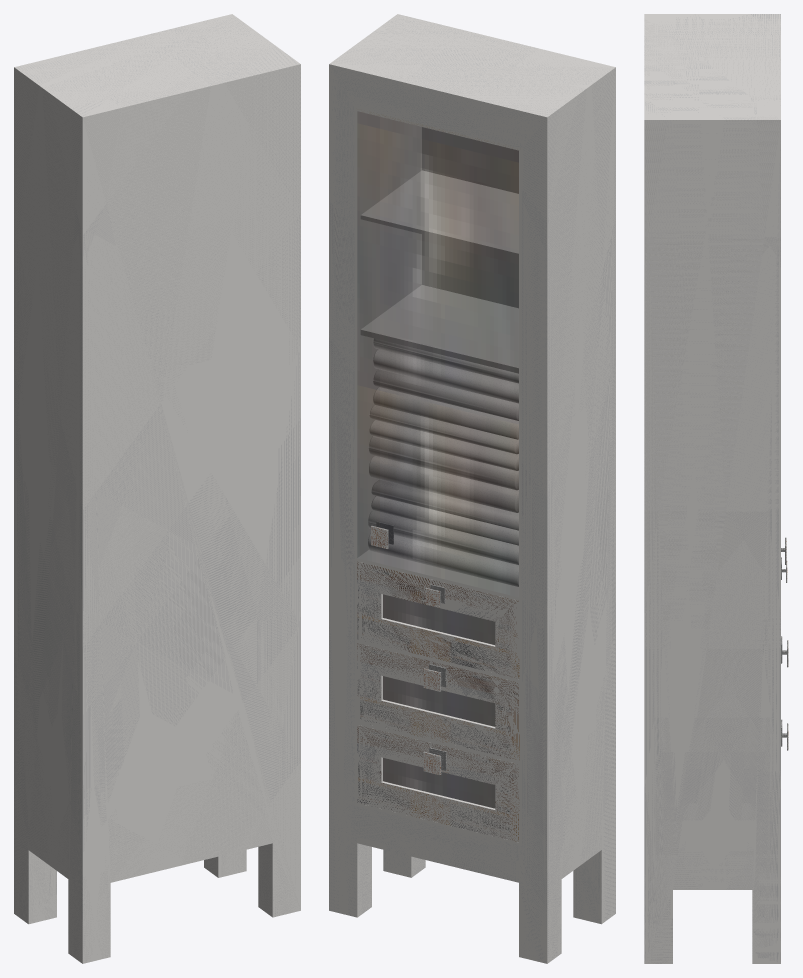
The picture shows the model from 3 angles, left to right: view 1: azimuth 30°, elevation 25°; view 2: azimuth 150°, elevation 25°; view 3: azimuth 270°, elevation 25°; orthographic projection.
Parts seen in each view (by area): view 1: mesh18_mesh18-geometry; view 2: mesh18_mesh18-geometry, mesh8_mesh8-geometry, mesh19_mesh19-geometry, mesh11_mesh11-geometry, mesh16_mesh16-geometry, mesh13_mesh13-geometry, mesh15_mesh15-geometry, mesh5_mesh5-geometry, mesh3_mesh3-geometry; view 3: mesh18_mesh18-geometry.
Part boxes in pixels (left/top/right/bottom): mesh18_mesh18-geometry: left=14, top=14, right=300, bottom=963; mesh18_mesh18-geometry: left=329, top=14, right=615, bottom=963; mesh8_mesh8-geometry: left=357, top=561, right=519, bottom=842; mesh19_mesh19-geometry: left=369, top=405, right=518, bottom=512; mesh11_mesh11-geometry: left=368, top=510, right=518, bottom=586; mesh16_mesh16-geometry: left=373, top=369, right=518, bottom=439; mesh13_mesh13-geometry: left=371, top=480, right=518, bottom=545; mesh15_mesh15-geometry: left=373, top=338, right=518, bottom=403; mesh5_mesh5-geometry: left=371, top=526, right=440, bottom=775; mesh3_mesh3-geometry: left=376, top=521, right=446, bottom=770; mesh18_mesh18-geometry: left=644, top=14, right=780, bottom=963.
Bounding box in the file's own units: 0.2576 × 0.9549 × 0.1479.
